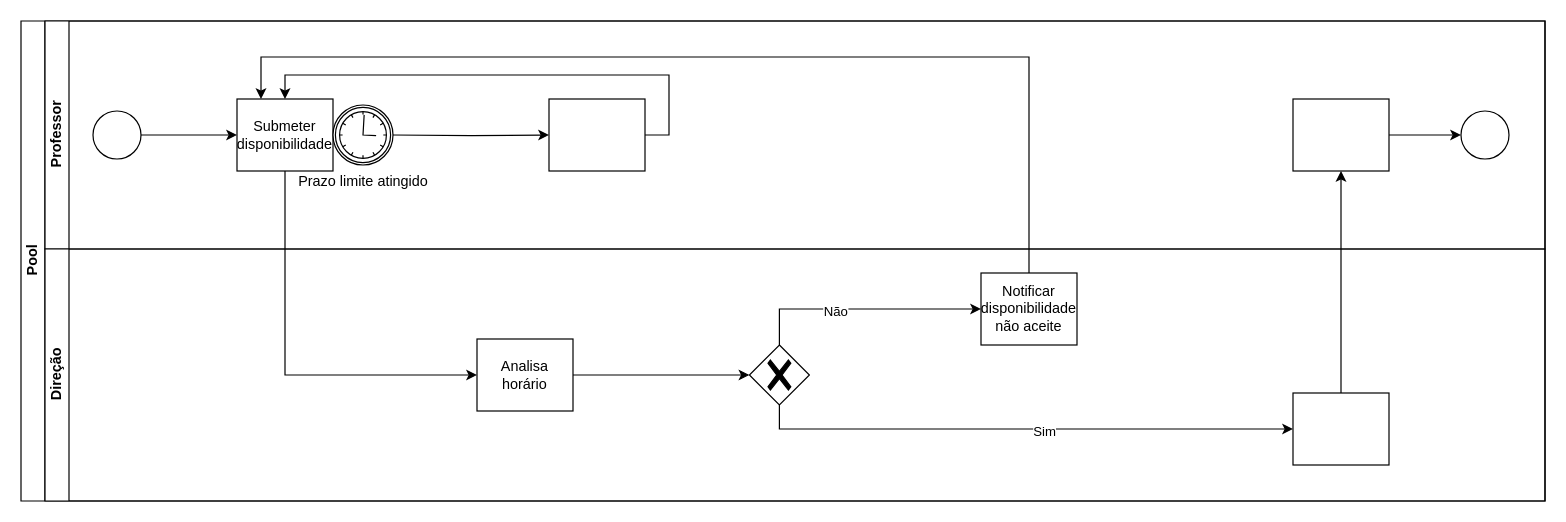
Image size: 1566x522. Some labels were removed from this diagram. Each missing label, with the centre of its shape:
Enviar lembrete ao professor: (x=596, y=134)
Notificação por e-mail (horário aprovado): (x=1340, y=134)
Proposta de disponibilidade aceite?: (x=778, y=374)
Registar horário aprovado: (x=1340, y=428)
